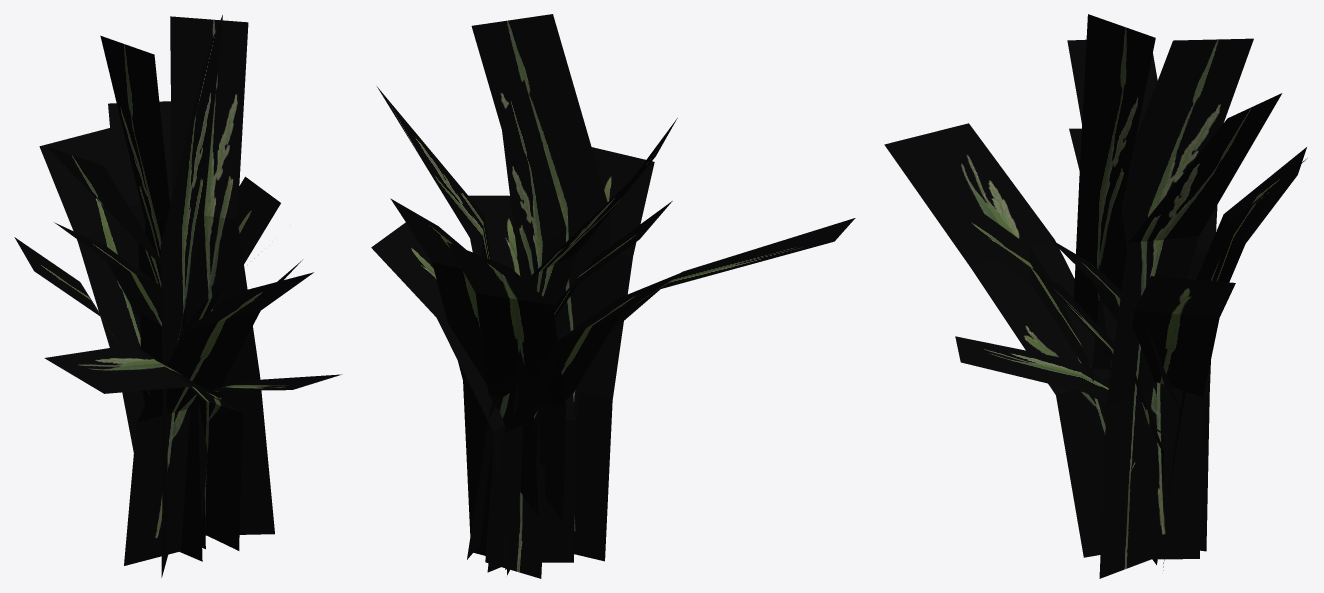
File: grasses.obj
3 views of the same model, side by side, from view 1: azimuth 30°, elevation 25°; view 2: azimuth 150°, elevation 25°; view 3: azimuth 270°, elevation 25° (orthographic). The views are drawn at different scales.
Parts seen in each view (by area): view 1: grasses_01b_Plane.014; view 2: grasses_01b_Plane.014; view 3: grasses_01b_Plane.014.
Part boxes in pixels (<box>): grasses_01b_Plane.014: <box>14,15,342,577</box>; grasses_01b_Plane.014: <box>371,14,855,578</box>; grasses_01b_Plane.014: <box>884,14,1307,578</box>.
Size of the model in its own units: 8.73 by 13.14 by 9.38.
